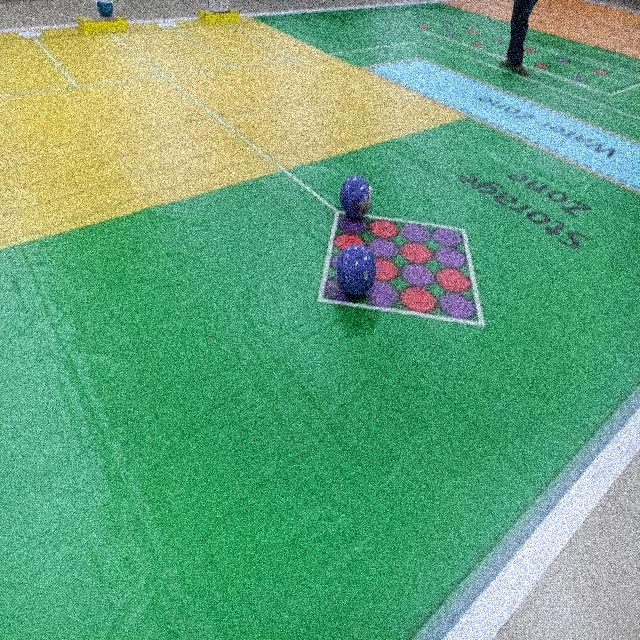purple_ball: (338, 244, 377, 298), (339, 174, 375, 219)
